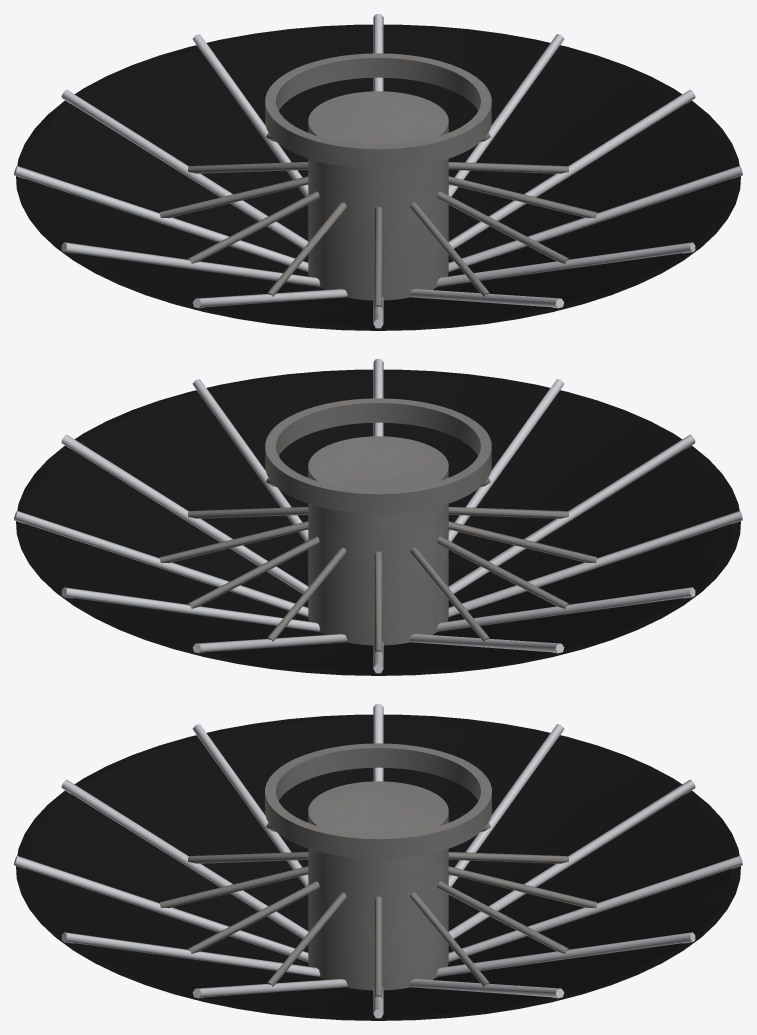
Rendered from stage16_deployable_heat_shield_s_deployed.glb.
3 renders of one model, top to bottom at view 1: azimuth 30°, elevation 25°; view 2: azimuth 150°, elevation 25°; view 3: azimuth 270°, elevation 25°, orthographic.
Visible parts, largest first — view 1: fabric_cone, payload_ring, ribs, struts; view 2: fabric_cone, payload_ring, ribs, struts; view 3: fabric_cone, payload_ring, ribs, struts.
Part boxes in pixels (left/top/right/bottom): fabric_cone: left=16, top=24, right=740, bottom=330; payload_ring: left=265, top=53, right=491, bottom=300; ribs: left=14, top=14, right=742, bottom=328; struts: left=160, top=133, right=597, bottom=308; fabric_cone: left=16, top=369, right=740, bottom=675; payload_ring: left=265, top=398, right=491, bottom=645; ribs: left=14, top=359, right=742, bottom=673; struts: left=159, top=478, right=596, bottom=653; fabric_cone: left=16, top=714, right=740, bottom=1020; payload_ring: left=265, top=743, right=491, bottom=990; ribs: left=14, top=704, right=742, bottom=1018; struts: left=160, top=823, right=597, bottom=998.
Size of the model in its own units: 2.01 by 0.6 by 2.01.
Materials: 4 (3 with a texture image).
